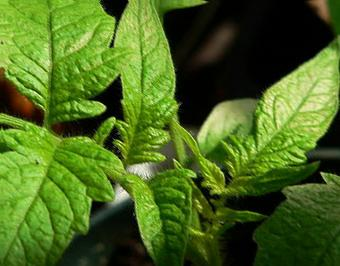Tomato leaf: (212, 38, 340, 204), (0, 0, 134, 132), (0, 110, 107, 266), (104, 0, 179, 169), (123, 164, 193, 266)
